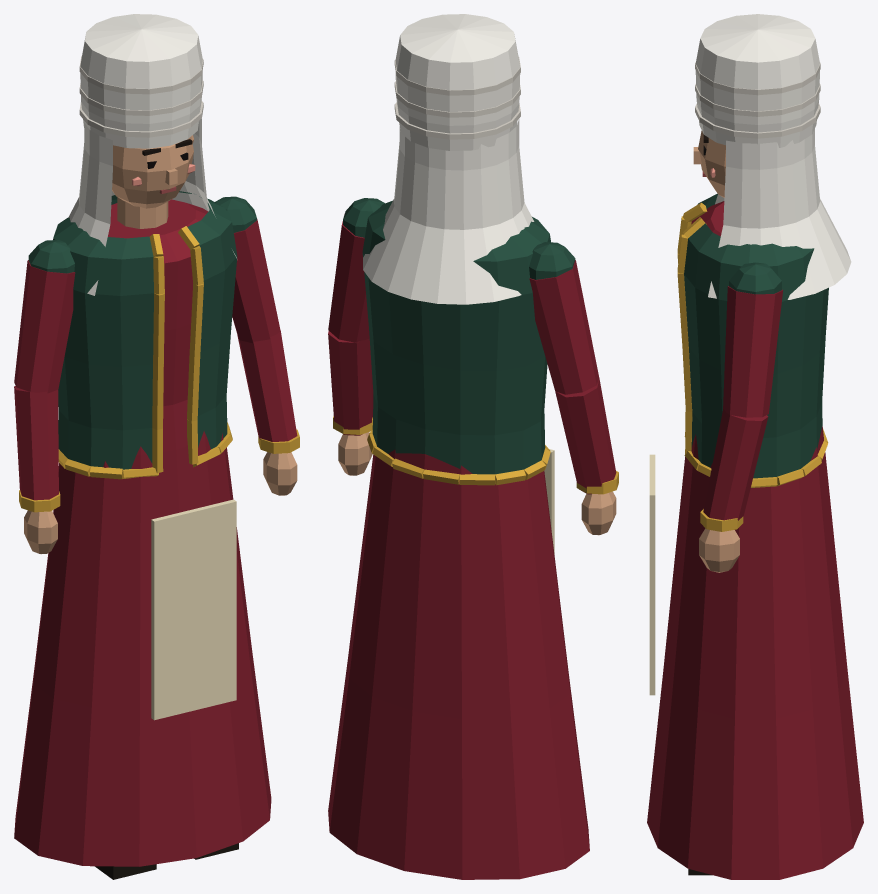
The model's file is Ezhe.obj.
3 renders of one model, left to right at view 1: azimuth 30°, elevation 25°; view 2: azimuth 150°, elevation 25°; view 3: azimuth 270°, elevation 25°, orthographic.
Parts seen in each view (by area): view 1: Ezhe; view 2: Ezhe; view 3: Ezhe.
Part boxes in pixels (bbox=[...]): Ezhe: bbox=[14, 14, 299, 879]; Ezhe: bbox=[328, 14, 618, 879]; Ezhe: bbox=[647, 14, 863, 879].
Bounding box in the file's own units: 0.623 × 1.74 × 0.4208.
